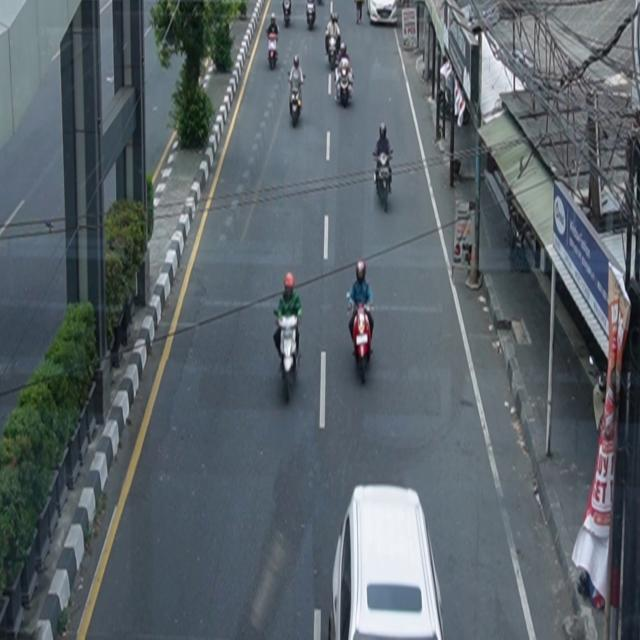car: (330, 484, 446, 640)
